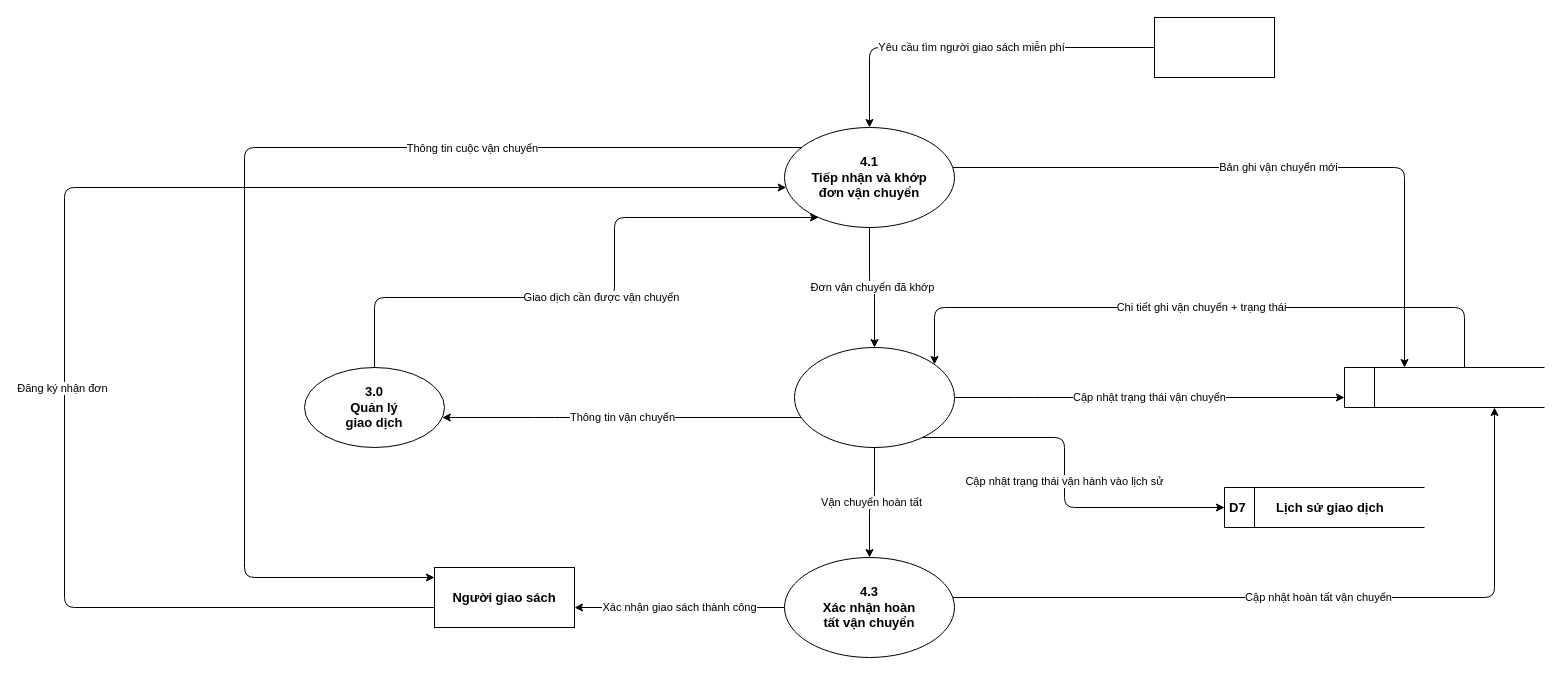
Image size: 1562x675. Some labels were removed from this diagram. The centre of each missing label's shape, as x and y in pixels:
"4.2 Theo dõi vận chuyển" goes at (874,397).
"D4 Hồ sơ vận chuyển" goes at (1444,387).
"Thành viên" goes at (1214,47).
